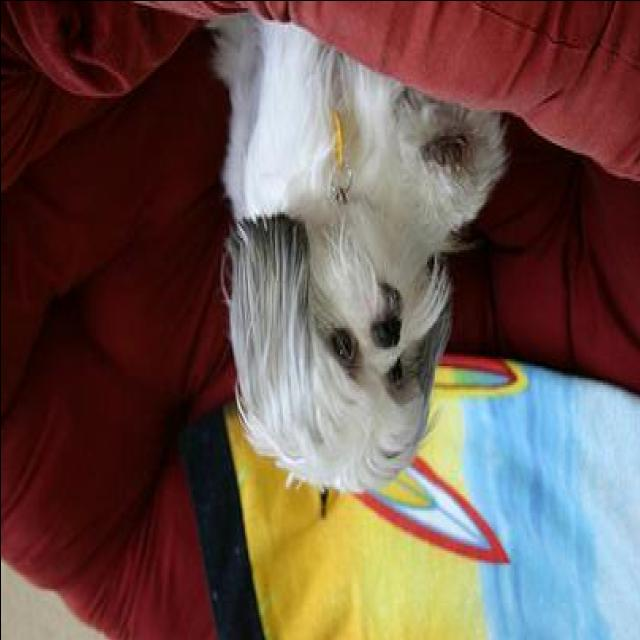shih_tzu: (206, 12, 510, 496)
